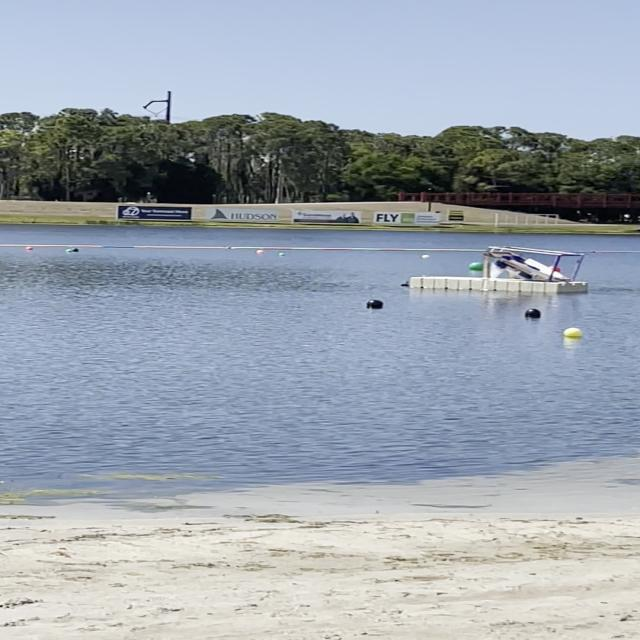buoy: (562, 327, 582, 337), (524, 308, 542, 318), (467, 261, 484, 270), (365, 300, 383, 308), (422, 254, 429, 259), (256, 250, 264, 254), (278, 252, 286, 256), (66, 248, 72, 252), (27, 247, 32, 250)
